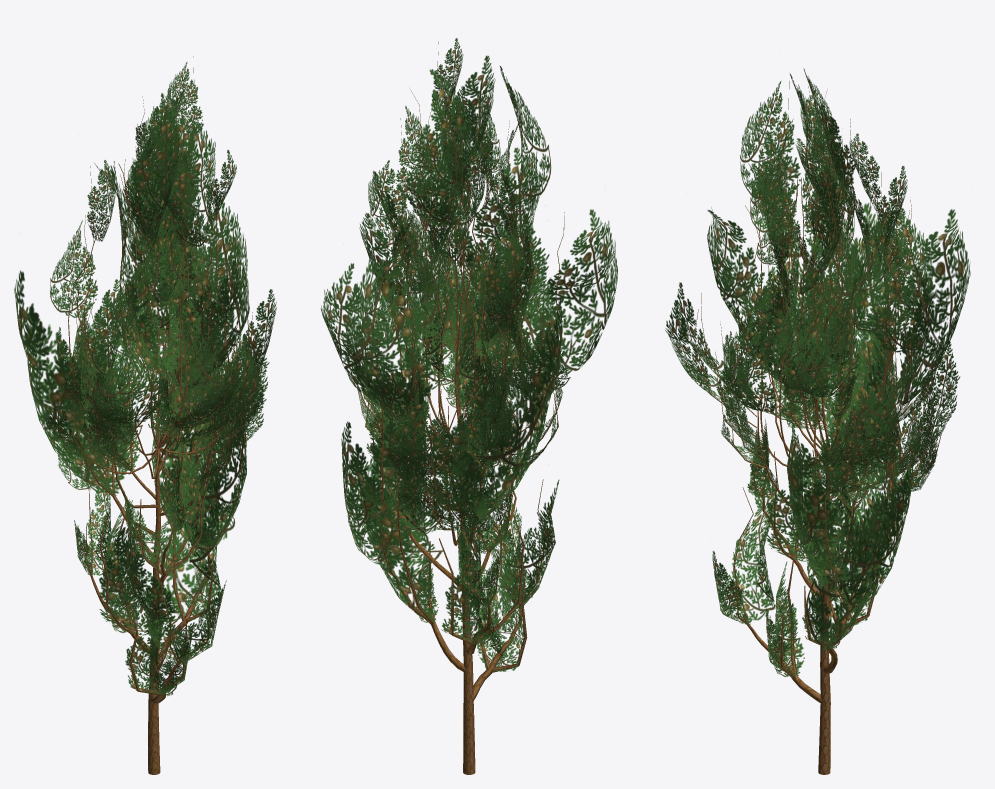
Rendered from cypress.glb.
3 views of the same model, side by side, from view 1: azimuth 30°, elevation 25°; view 2: azimuth 150°, elevation 25°; view 3: azimuth 270°, elevation 25° (orthographic).
Visible parts, largest first — view 1: kiparis; view 2: kiparis; view 3: kiparis.
Part boxes in pixels (x1=…): kiparis: x1=14, y1=56, x2=276, y2=774; kiparis: x1=320, y1=38, x2=617, y2=774; kiparis: x1=665, y1=68, x2=970, y2=774.
Size of the model in its own units: 10.01 by 29.35 by 11.9.
2 materials, 2 textured.
